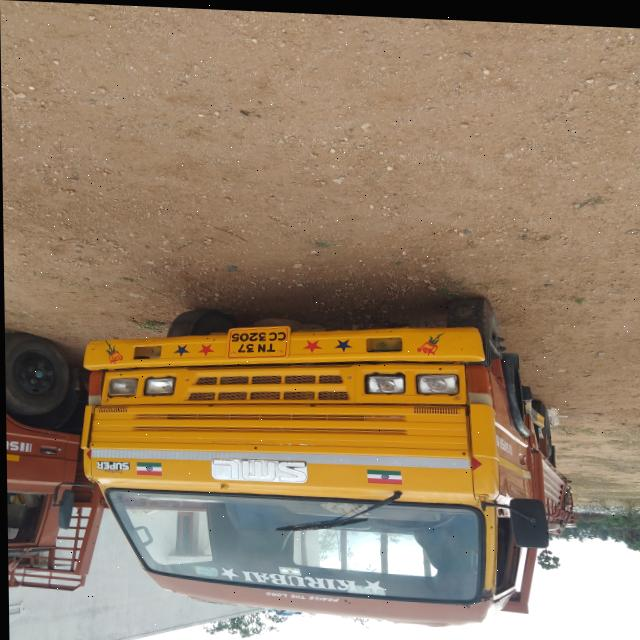plate: (220, 321, 293, 356)
